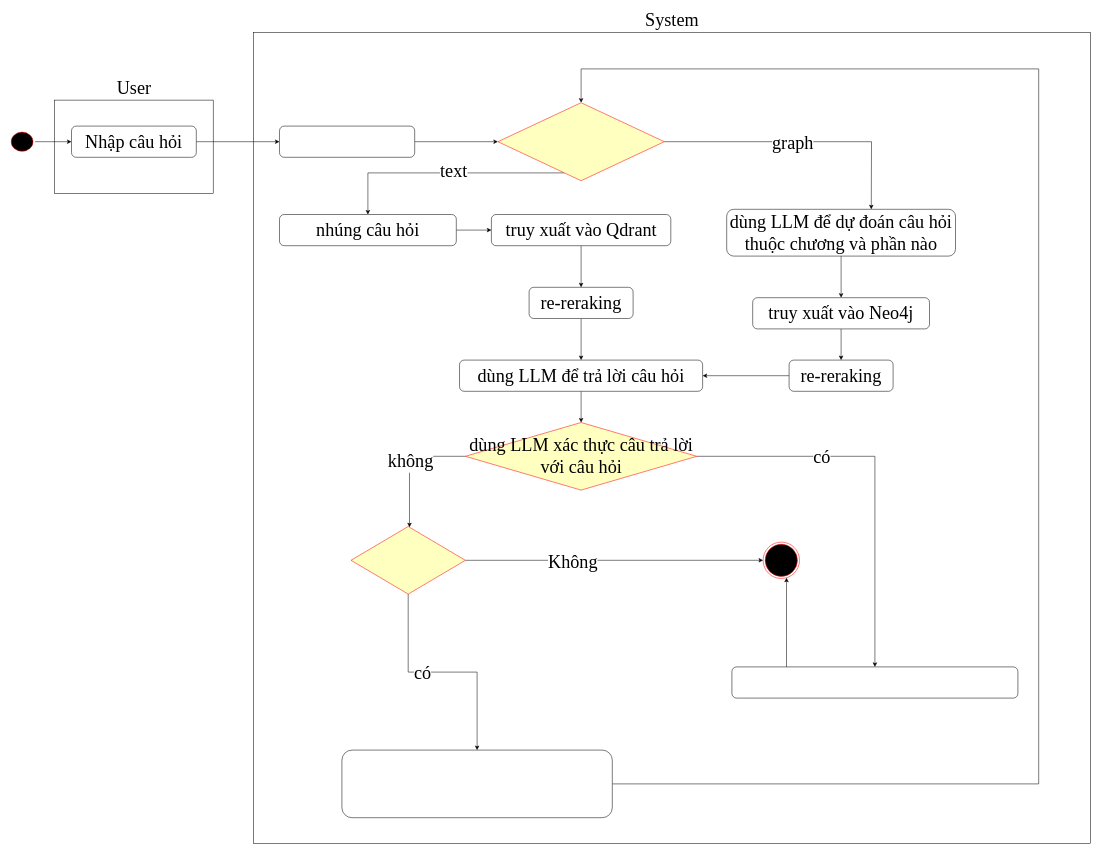
This 1100x853 diagram has some shape labels left out. The shapes that lost their labels are listed below. From the top down, each one's box as (x1, y1, x2, y2) in pixels, then its label:
(279, 126, 415, 157): tiền xử lý câu hỏi
(497, 102, 664, 181): dùng LLM quyết định chọn nguồn truy xuất nào
(350, 526, 465, 594): Còn số lần lặp
(731, 666, 1018, 698): dùng llm tổng hợp câu trả lời
(341, 750, 612, 818): dùng LLM để trích xuất lại thực thể và quan hệ
